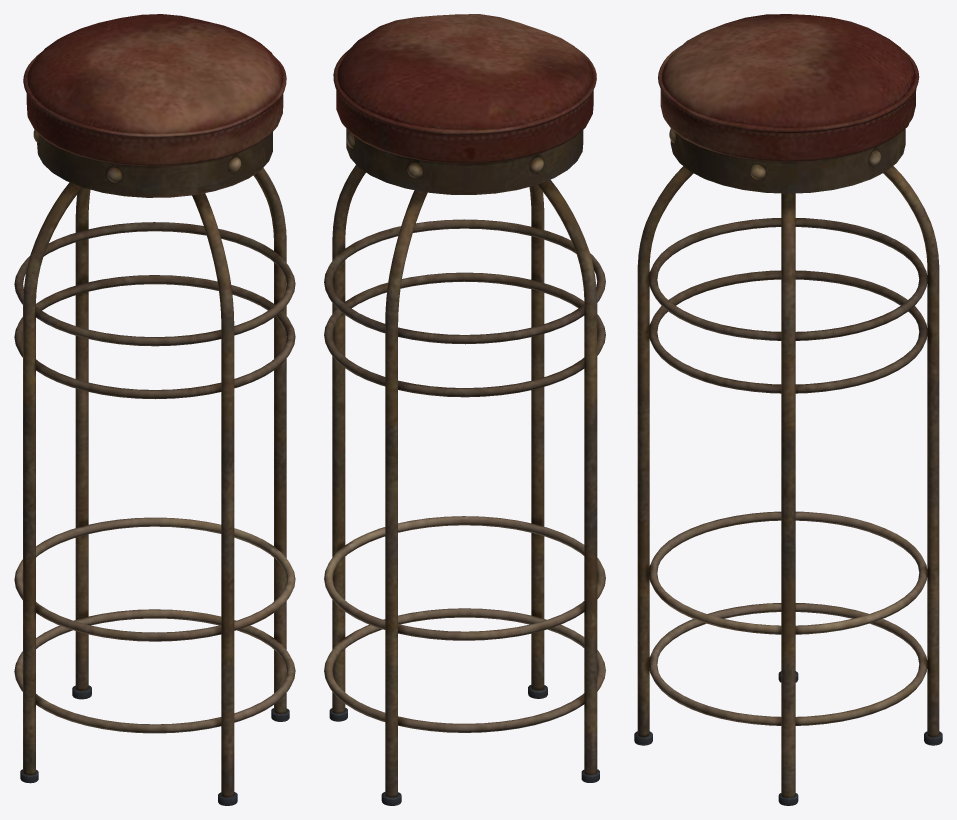
3 views of the same model, side by side, from view 1: azimuth 30°, elevation 25°; view 2: azimuth 150°, elevation 25°; view 3: azimuth 270°, elevation 25° (orthographic).
Visible parts, largest first — view 1: metal_stool_01; view 2: metal_stool_01; view 3: metal_stool_01.
Part boxes in pixels (left/top/right/bottom): metal_stool_01: left=14, top=14, right=295, bottom=805; metal_stool_01: left=324, top=14, right=605, bottom=805; metal_stool_01: left=634, top=14, right=942, bottom=805.
Size of the model in its own units: 0.352 by 0.8828 by 0.3546.
1 material, 1 textured.
